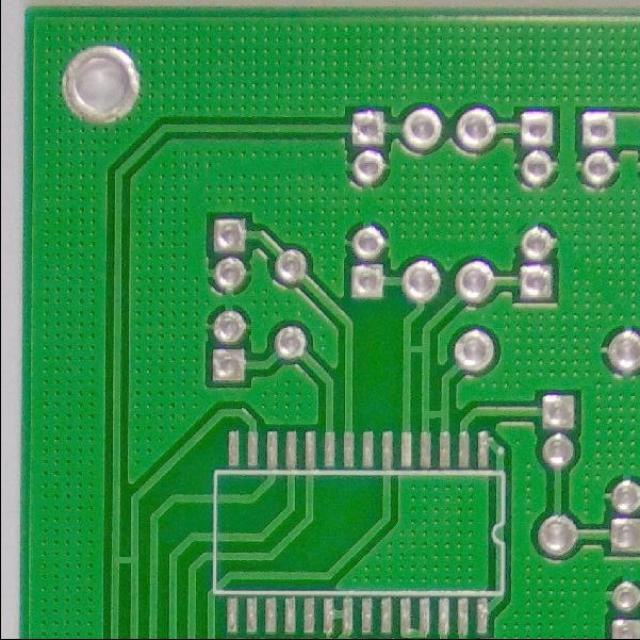short: (391, 329, 430, 372), (103, 540, 142, 581), (418, 400, 452, 432), (180, 620, 221, 638)
